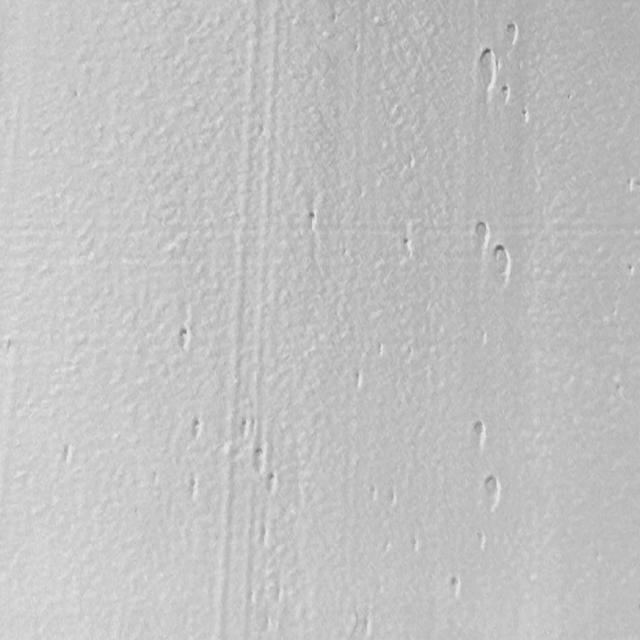pin holes: (487, 242, 512, 286), (478, 472, 503, 509), (476, 48, 497, 82), (470, 219, 491, 252), (469, 417, 489, 448), (352, 614, 375, 638), (186, 415, 205, 444), (302, 209, 322, 236), (176, 322, 194, 350), (249, 448, 267, 476), (446, 575, 464, 602), (236, 417, 255, 442), (502, 21, 520, 47), (2, 334, 19, 360), (365, 485, 383, 507), (398, 237, 415, 260), (185, 476, 200, 500), (266, 470, 280, 494), (474, 531, 489, 553), (352, 370, 366, 390), (500, 85, 512, 106), (624, 177, 636, 196), (520, 108, 532, 126), (375, 341, 387, 358), (625, 261, 636, 278)
